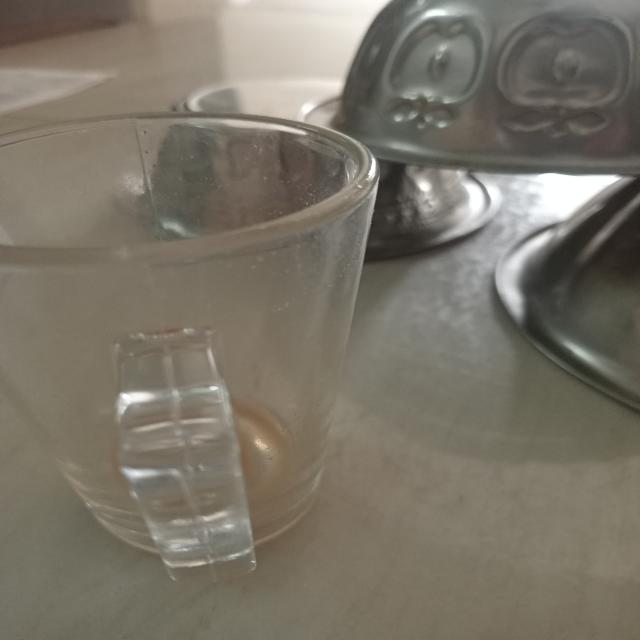glass-VX4N: (0, 116, 381, 581)
